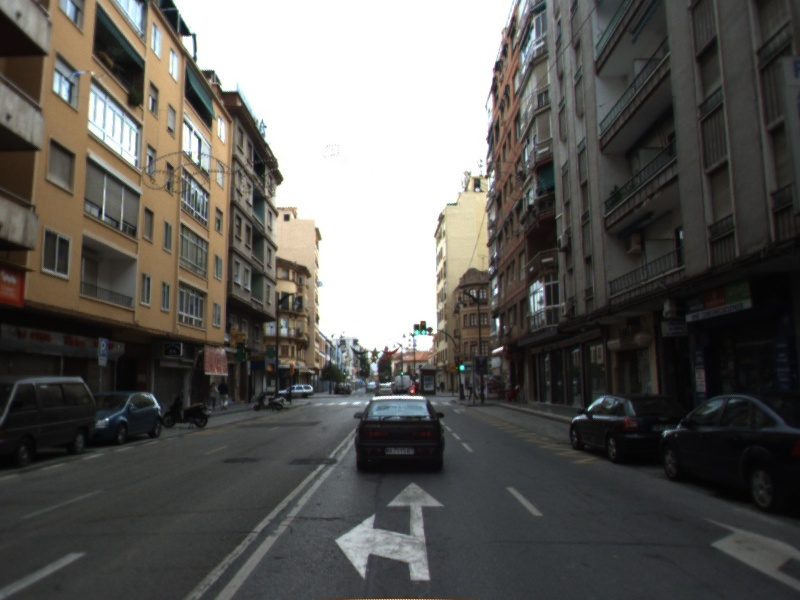RIGHT: (702, 516, 800, 591)
STRAIGHT_LEFT: (333, 480, 446, 582)
